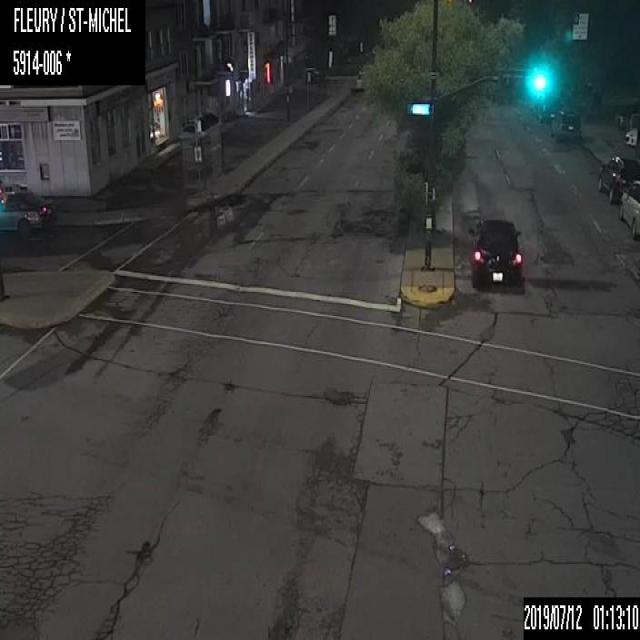vehicle: (468, 213, 523, 292), (0, 185, 55, 238), (595, 152, 639, 203), (619, 176, 639, 240), (551, 108, 583, 142), (534, 96, 562, 121), (623, 125, 639, 146)
